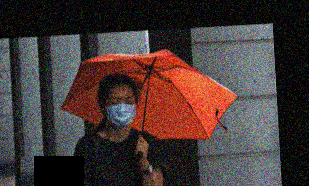with_mask: (103, 94, 137, 128)
